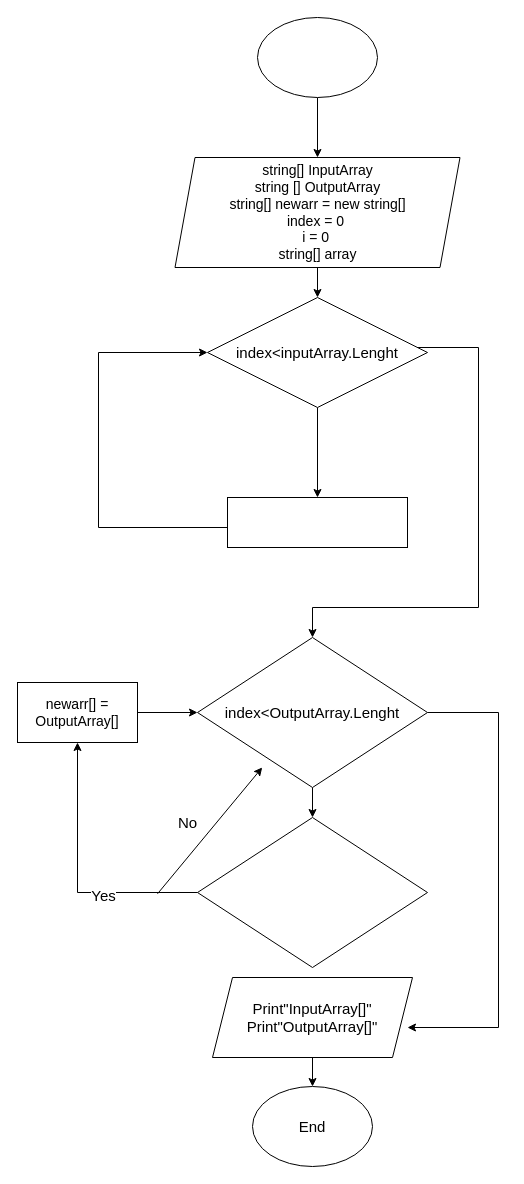
The diagram is 524 pixels wide and 1184 high, and some of its shapes have lost their labels. The box of each missing label's shape, as (x1, y1, x2, y2) in pixels:
index = i++: (226, 496, 408, 548)
OutputArray.Lenght<=3: (196, 816, 428, 968)
Start: (256, 16, 378, 98)
